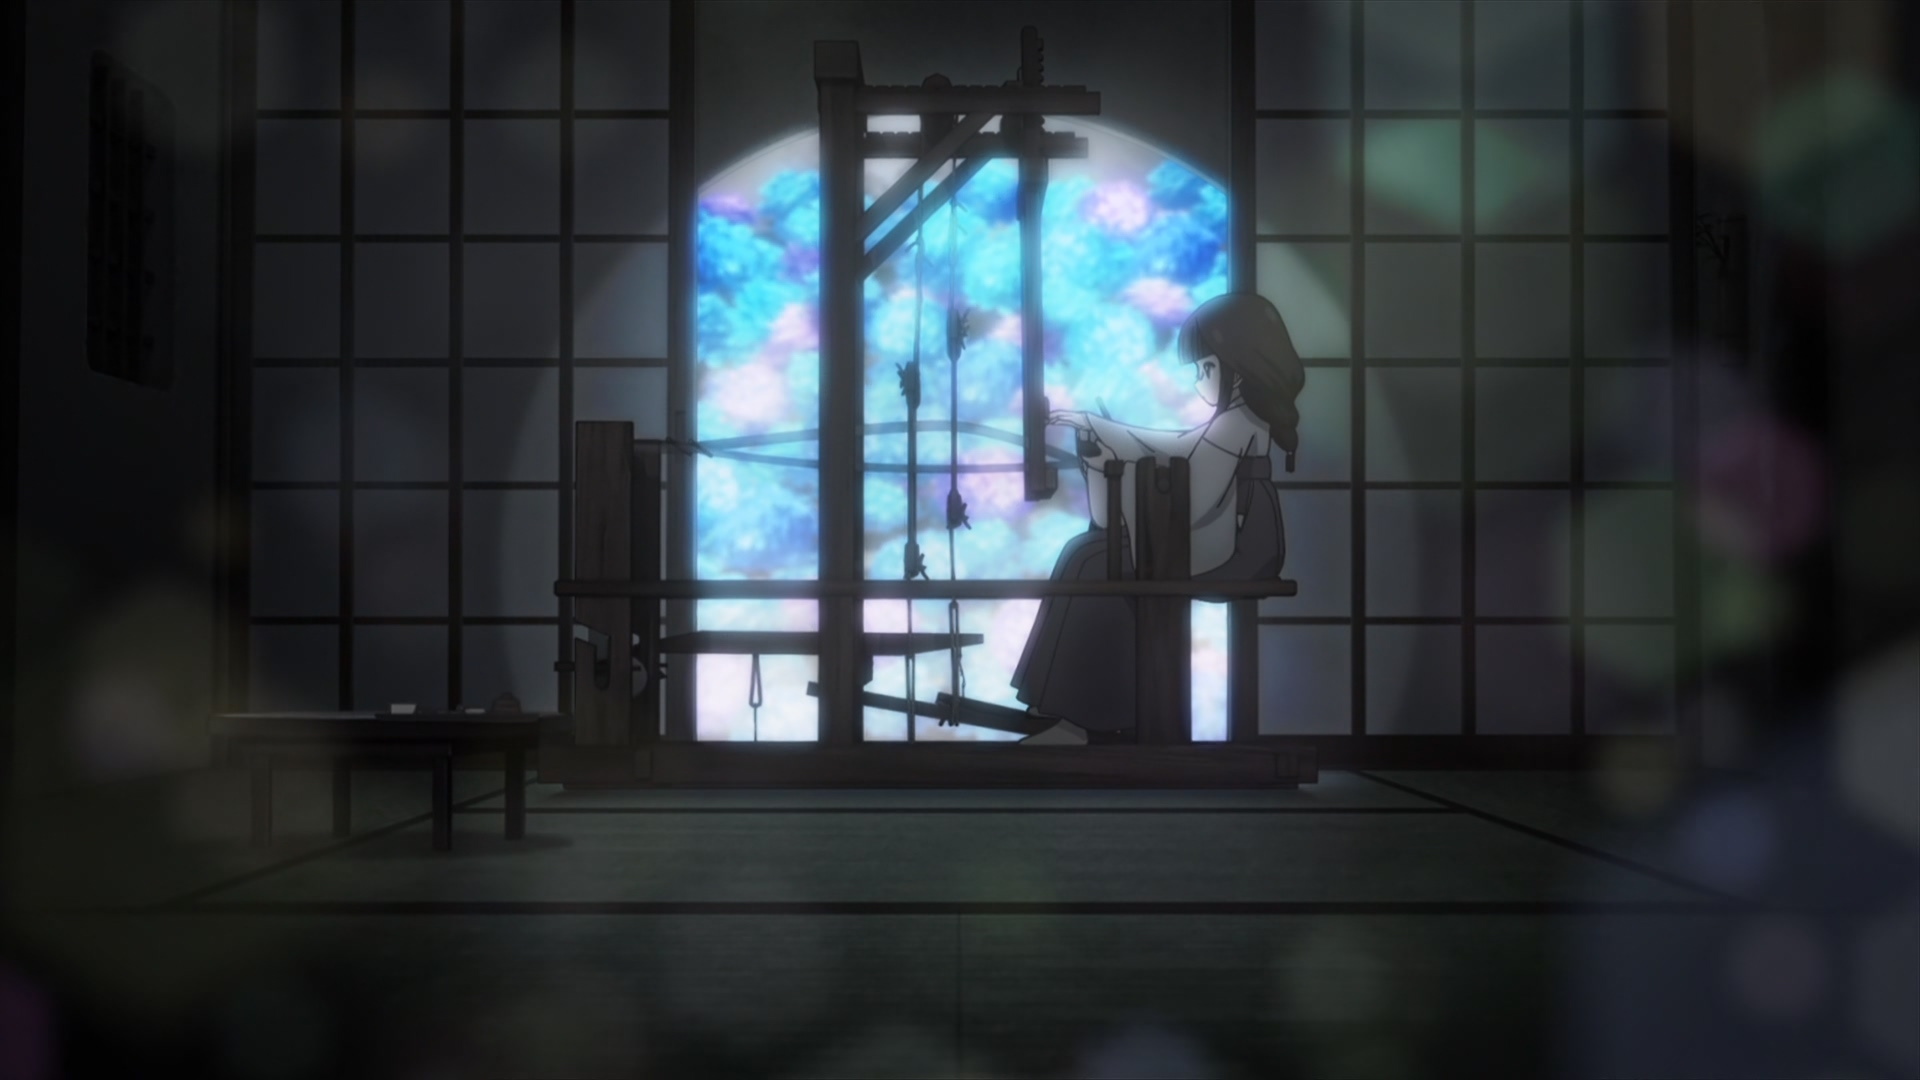其他: (1014, 293, 1304, 742)
